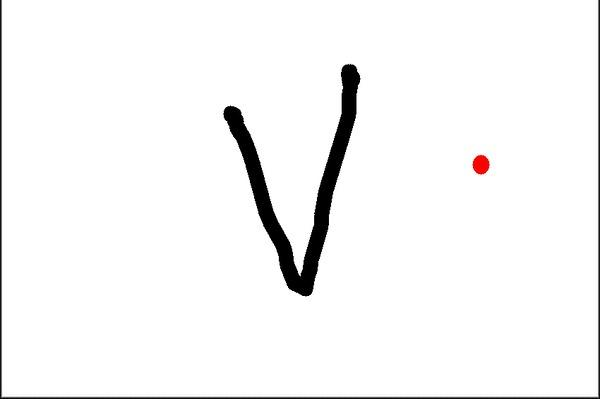V: (214, 52, 378, 307)
